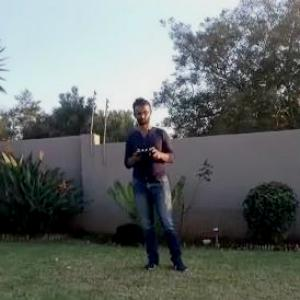follow: (122, 94, 197, 275)
